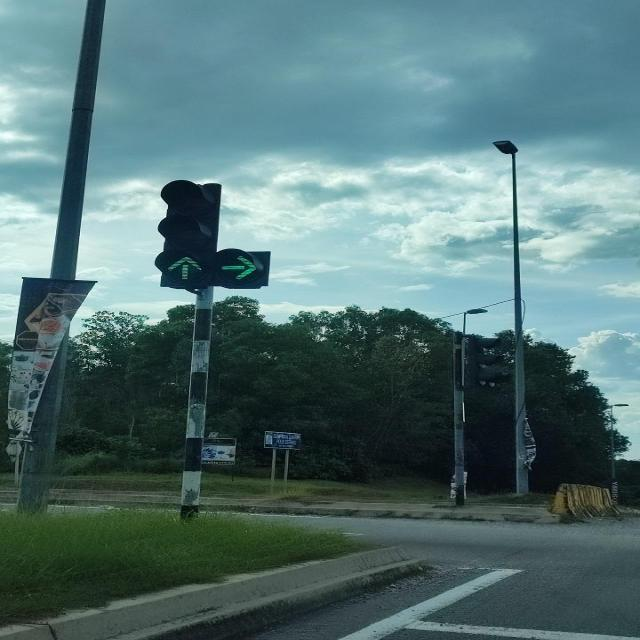traffic light: (155, 179, 222, 290), (213, 248, 271, 289)
